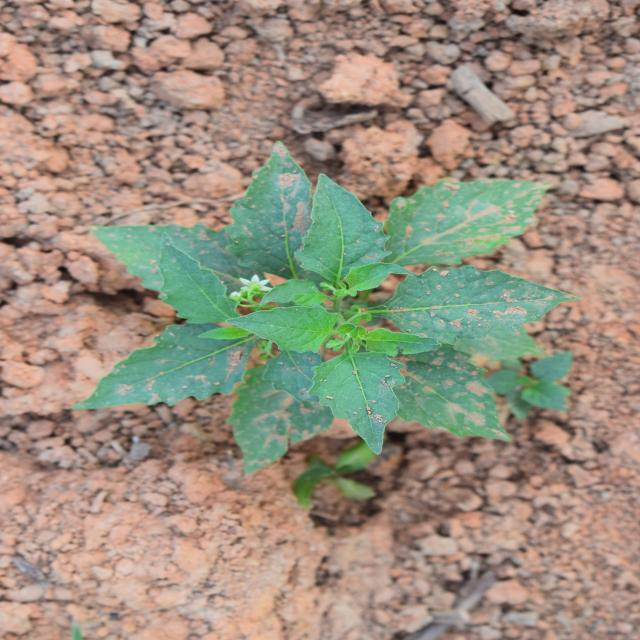Black_nightshade: (188, 96, 468, 537)
